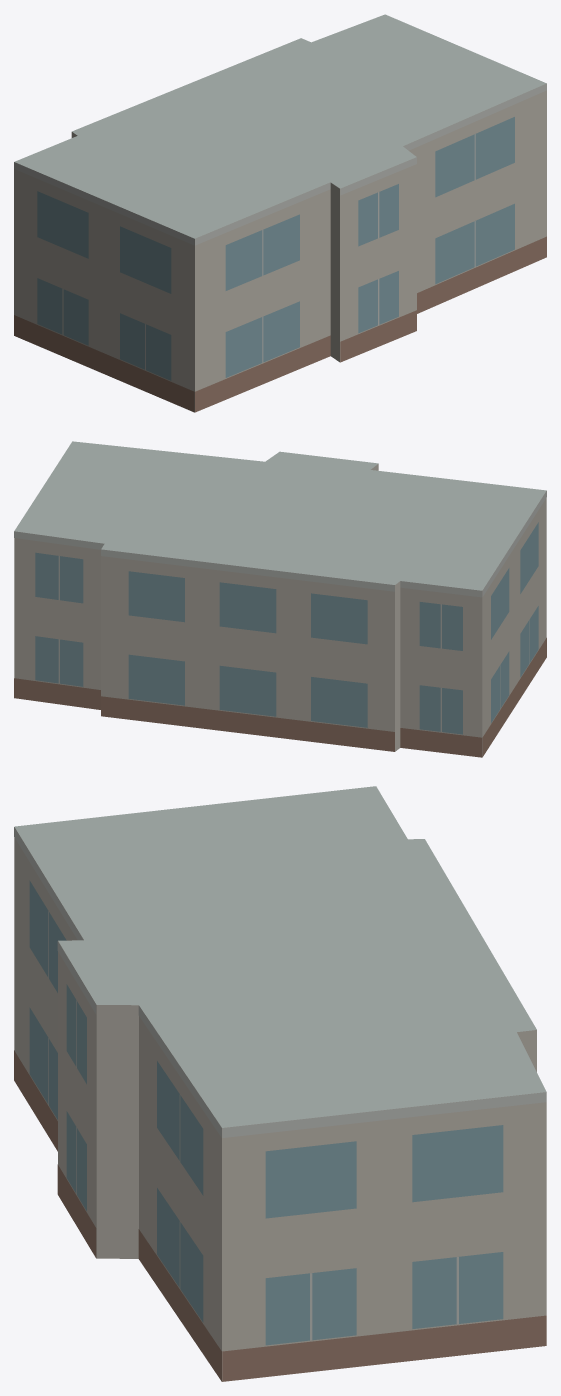
File: survey-upis-32624098.glb
3 views of the same model, one above another, from view 1: azimuth 30°, elevation 25°; view 2: azimuth 150°, elevation 25°; view 3: azimuth 270°, elevation 25° (orthographic). The views are drawn at different scales.
Visible parts, largest first — view 1: survey-upis-32624098.tmp; view 2: survey-upis-32624098.tmp; view 3: survey-upis-32624098.tmp.
Part boxes in pixels (x1=…): survey-upis-32624098.tmp: x1=14, y1=14, x2=546, y2=412; survey-upis-32624098.tmp: x1=14, y1=441, x2=546, y2=757; survey-upis-32624098.tmp: x1=14, y1=786, x2=546, y2=1381.
Size of the model in its own units: 17.64 by 6.1 by 11.61.
